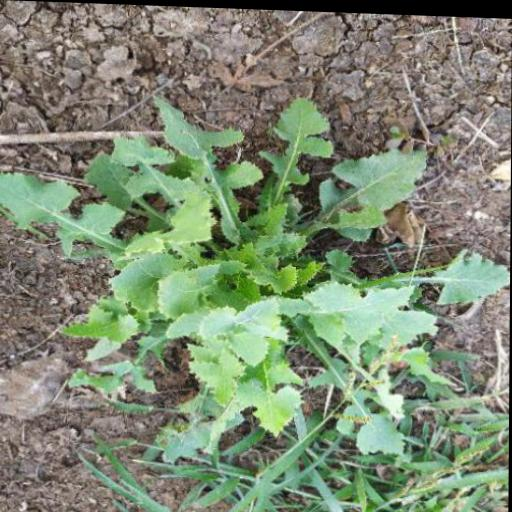weed: (0, 59, 512, 505)
